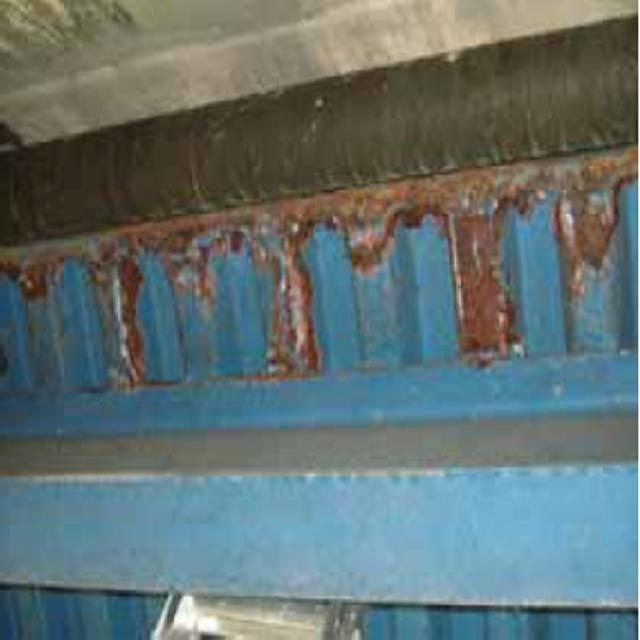corrosion: (4, 148, 630, 396)
